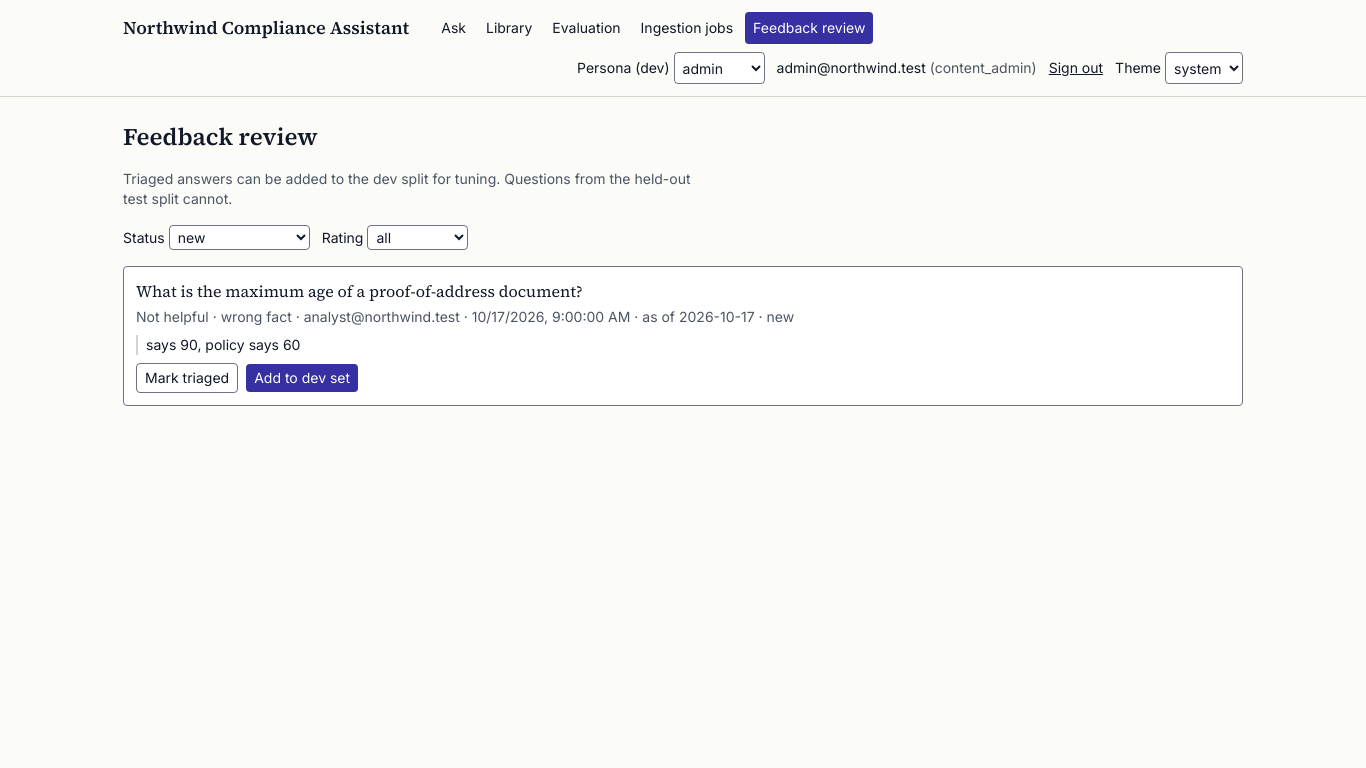
Test case: retry re-sends a triage that failed, and success is announced
Click the button "Mark triaged" at (187, 378), box [136,363,238,393]
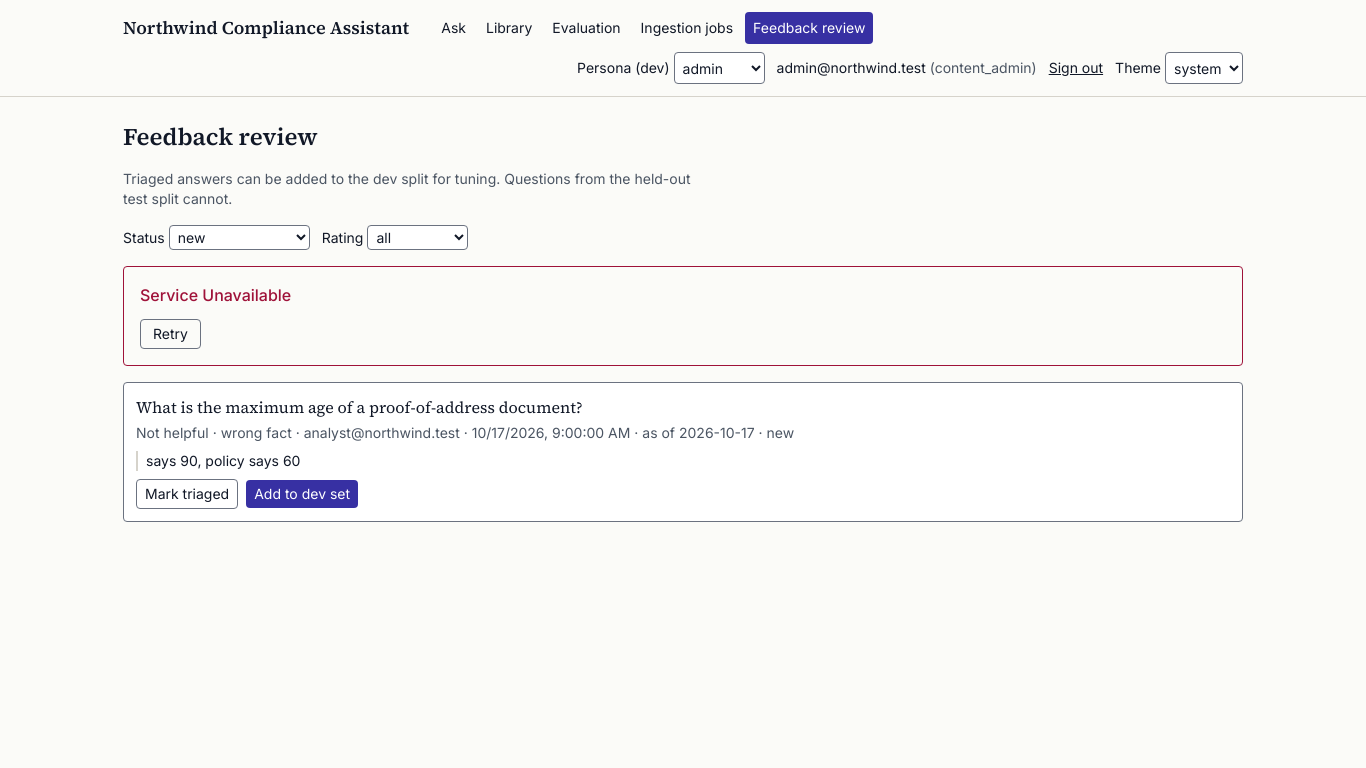
Click the button "Retry" at (170, 334), box [140,319,201,349]
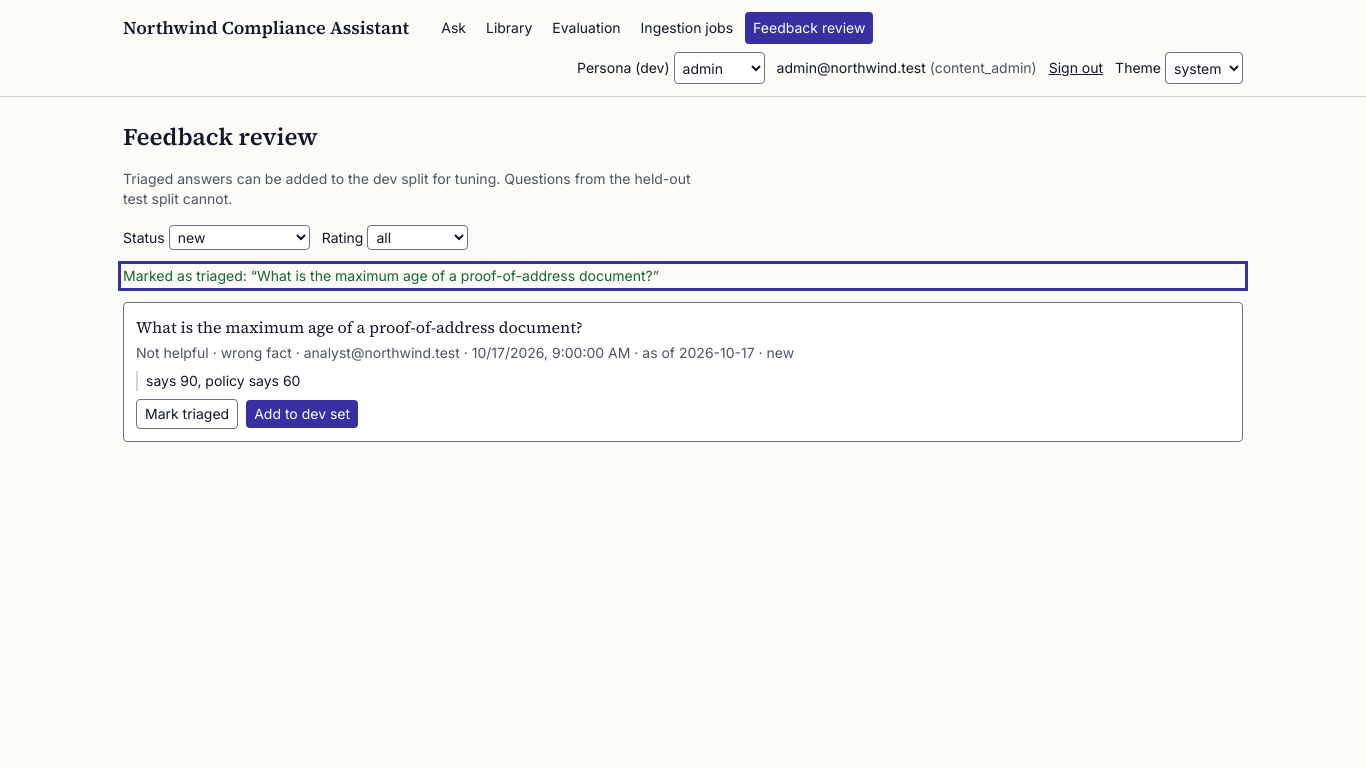
expect the text "Marked as triaged: “What is the maximum age of a proof-of-address document?”" is shown: met, box [123,267,659,284]
